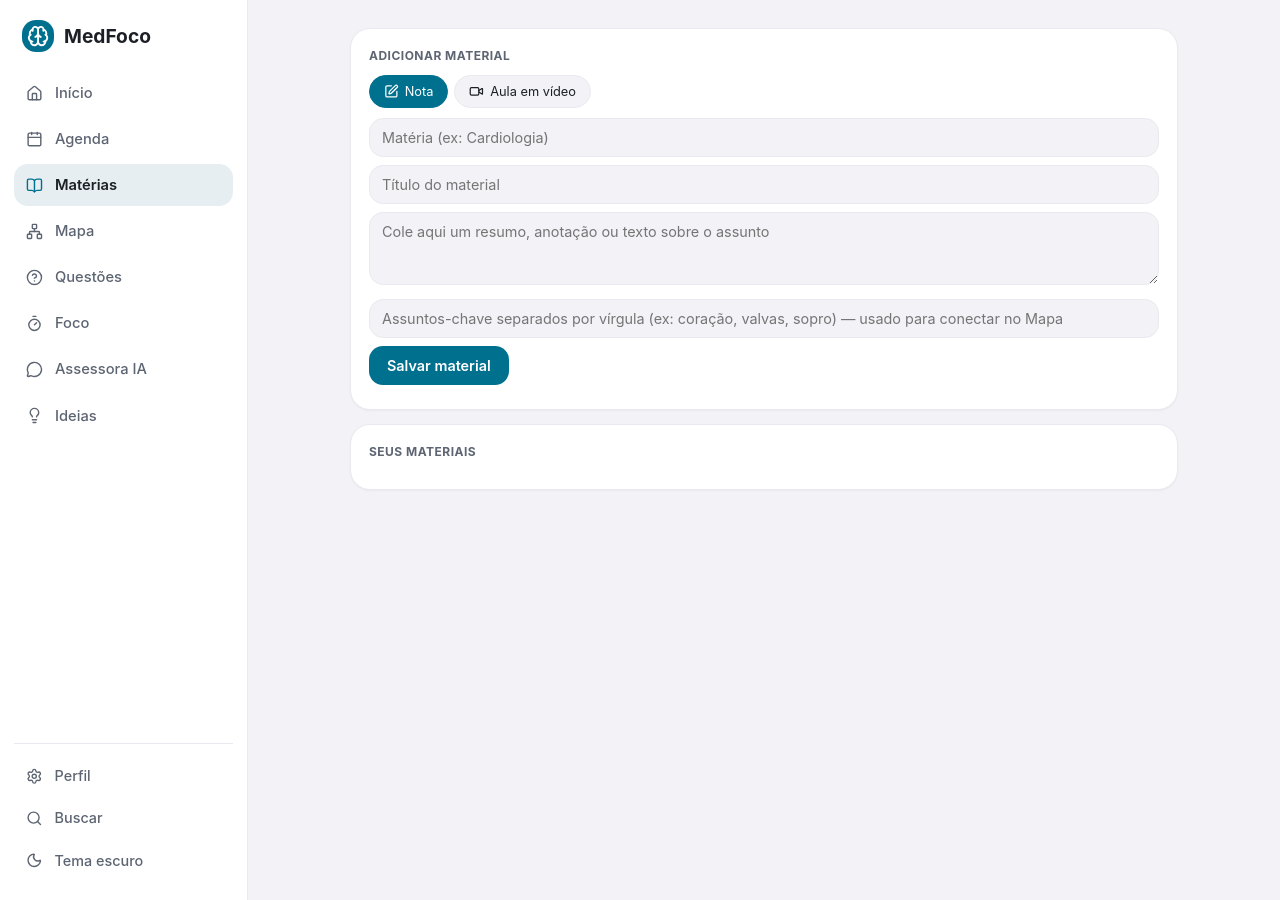
Matérias › formulário › cria nota: matéria vazia vira "Geral", tags em minúsculas, foco volta ao título
Type " Resumo de ECG " into the field labelled "Título do material" at (764, 184), box [369,165,1159,204]
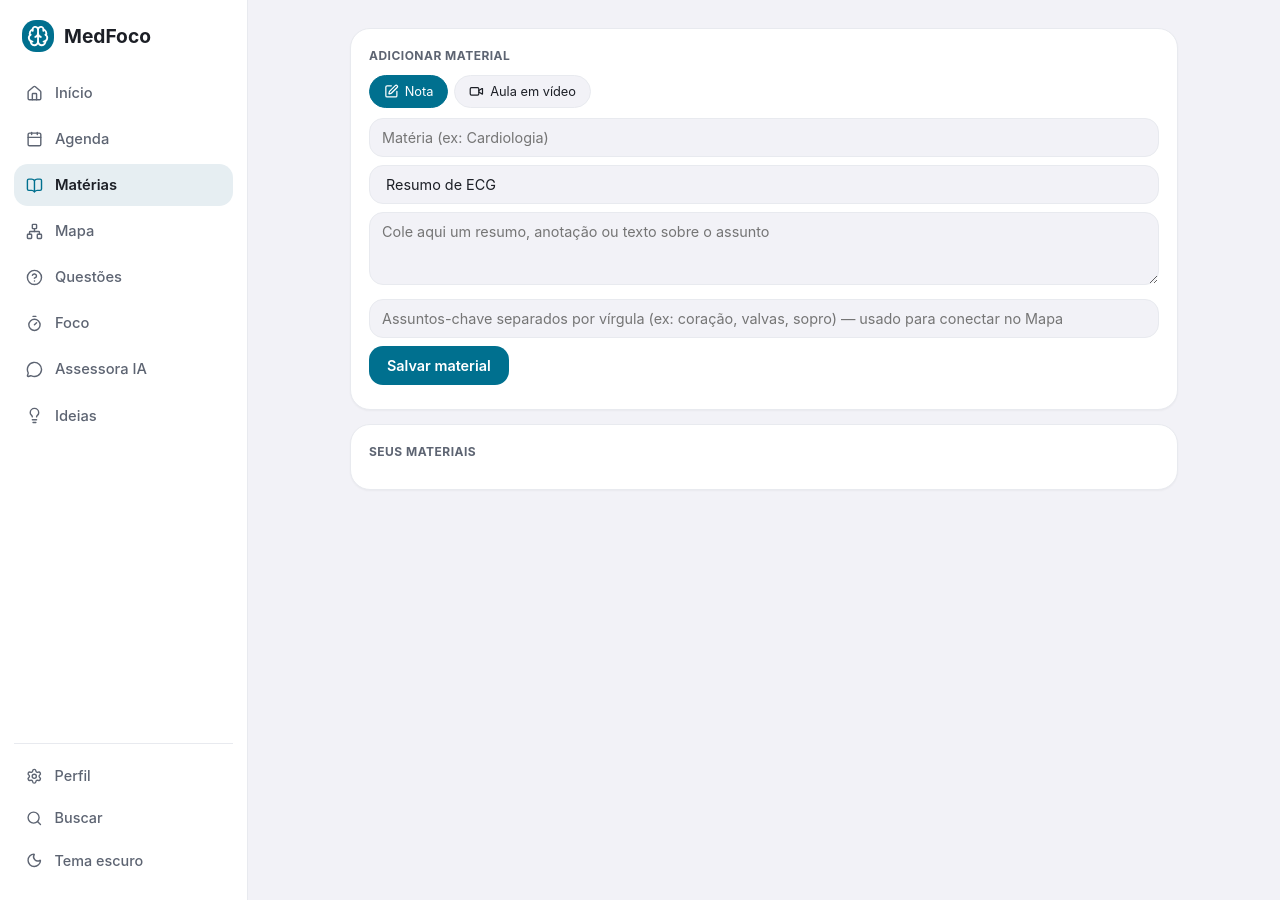
Type "ondas P, QRS e T" into the text box named "Anotações" at (764, 248), box [369,212,1159,285]
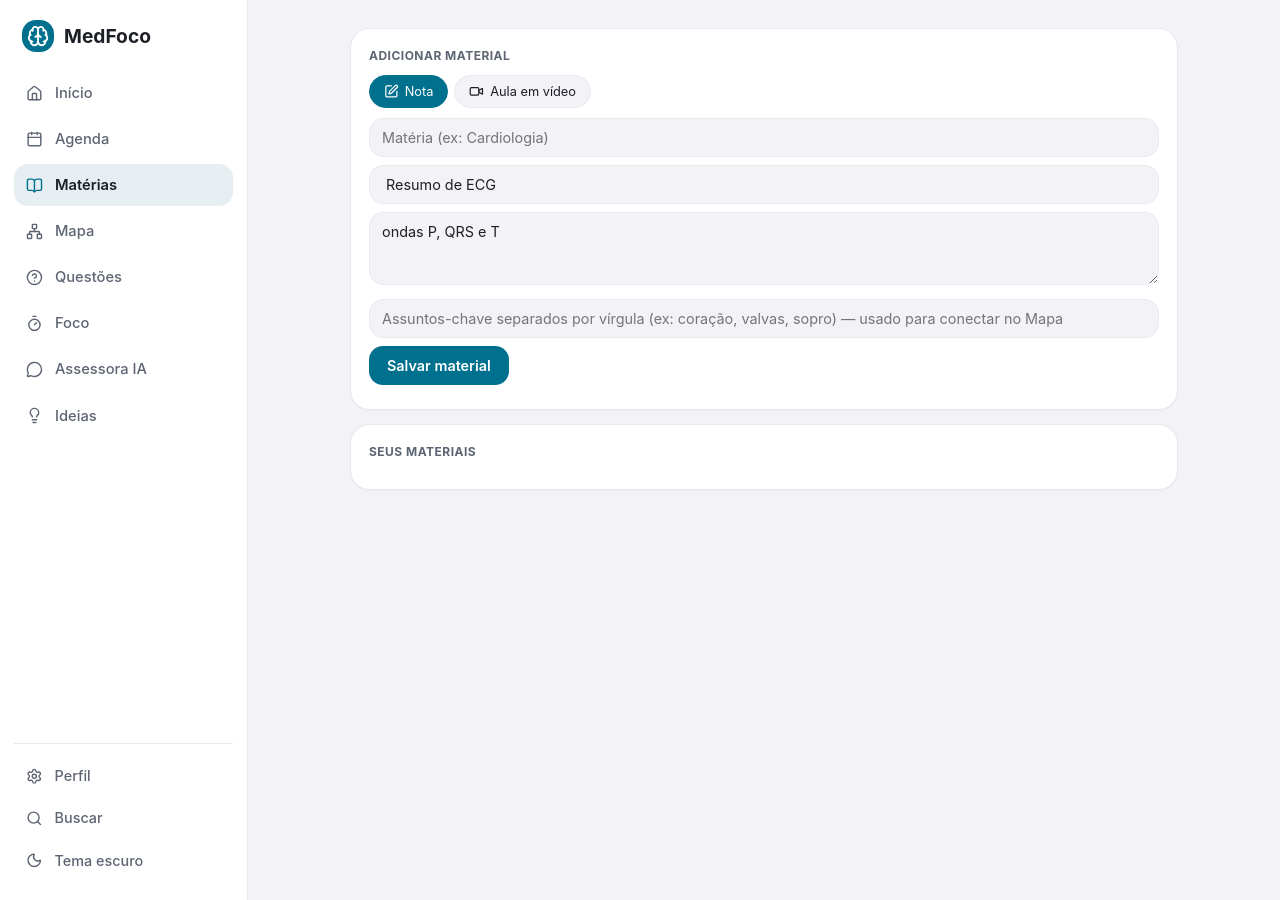
Replace the text in the field labelled "Assuntos-chave" with "Coração, ECG,, coração" at (764, 318), box [369,299,1159,338]
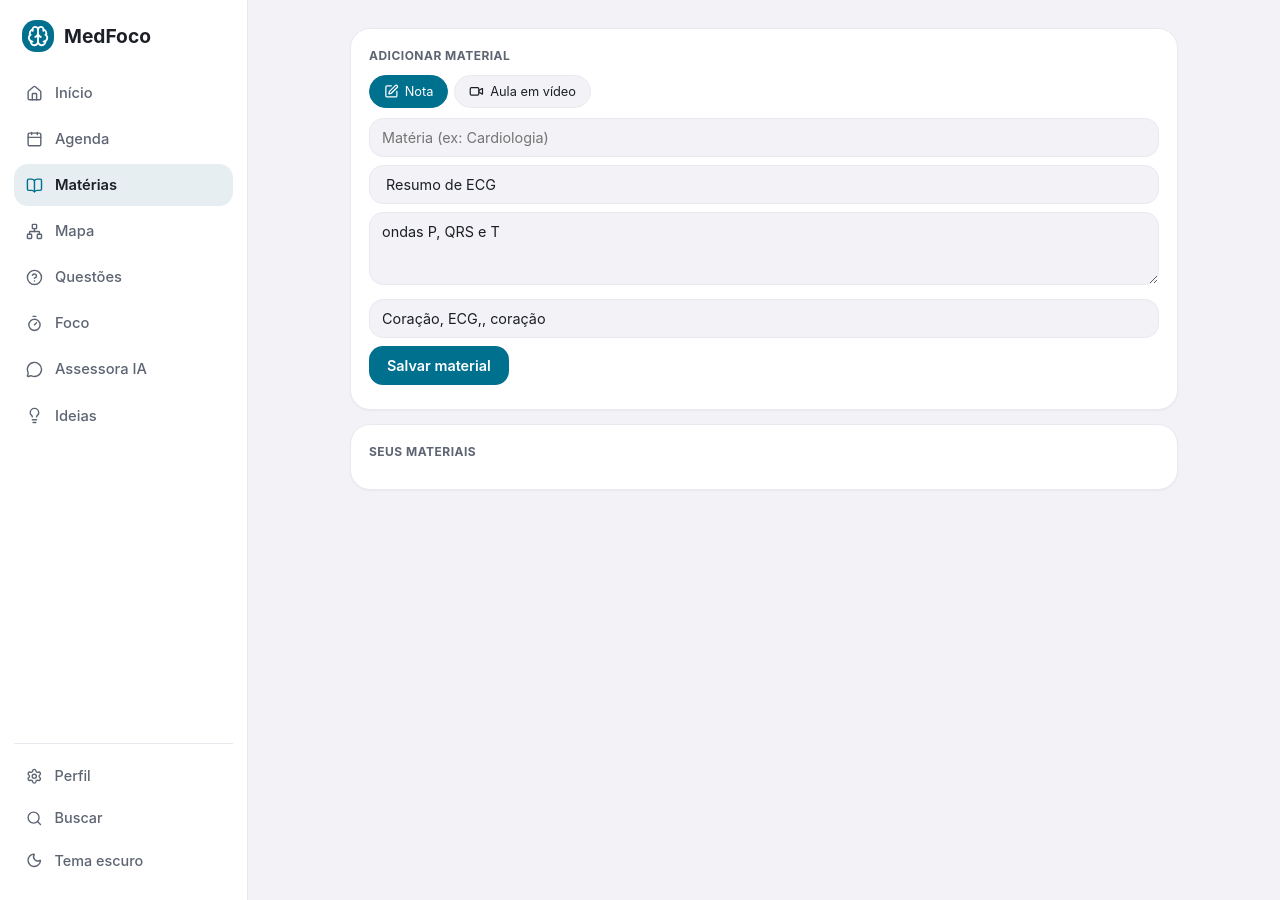
Click the button "Salvar material" at (439, 366), box [369,346,509,385]
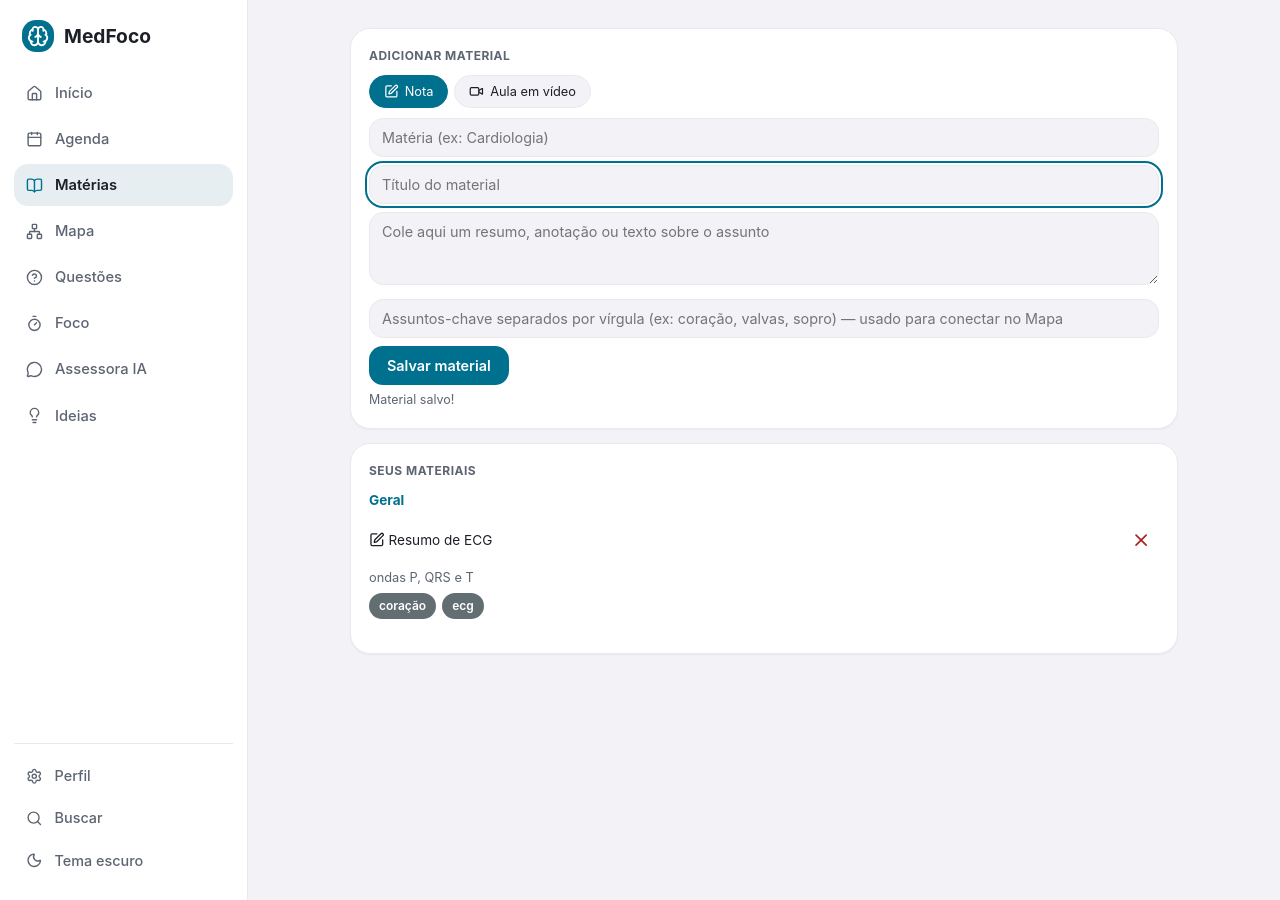
Result: the heading "Geral" is shown at [369,492,404,508]
Result: the text "Resumo de ECG" is shown at [369,532,492,548]
Result: the text "ondas P, QRS e T" is shown at [369,570,474,585]
